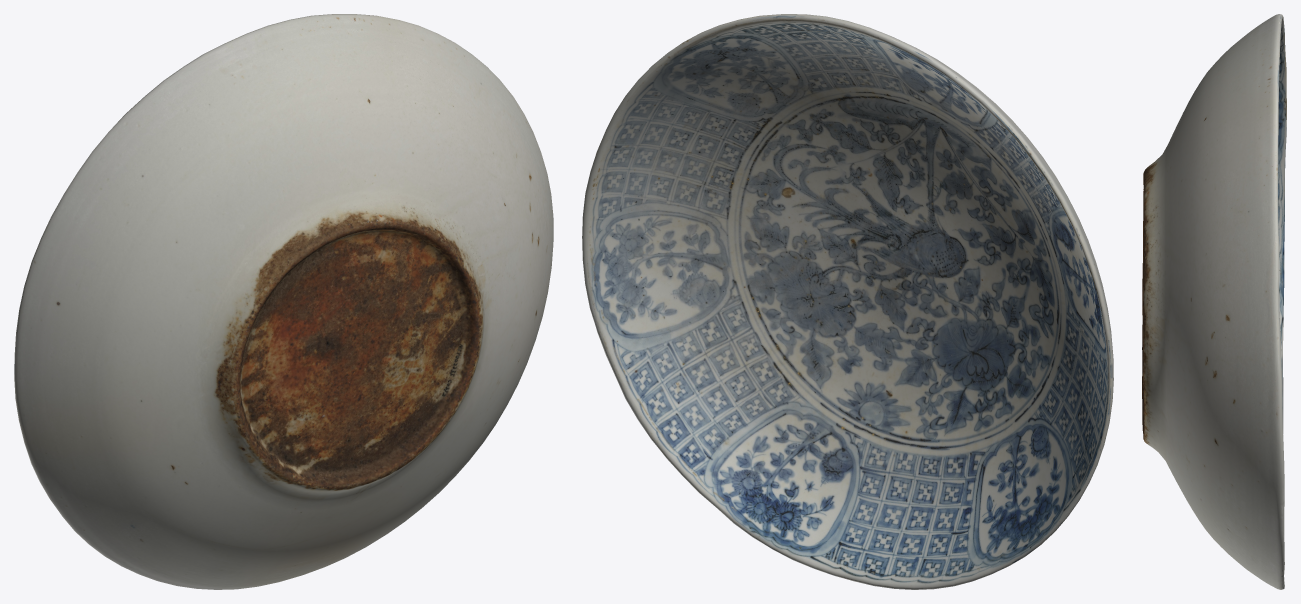
The model's file is MTY002234.glb.
The picture shows the model from 3 angles, left to right: view 1: azimuth 30°, elevation 25°; view 2: azimuth 150°, elevation 25°; view 3: azimuth 270°, elevation 25°; orthographic projection. The views are drawn at different scales.
Parts seen in each view (by area): view 1: MTY002235; view 2: MTY002235; view 3: MTY002235.
Part boxes in pixels (box(x1,y1,x2,y2)): MTY002235: box(14, 14, 553, 589); MTY002235: box(582, 14, 1113, 589); MTY002235: box(1142, 14, 1286, 589).
Size of the model in its own units: 51.84 by 51.76 by 12.89.
Materials: 2 (2 with a texture image).
